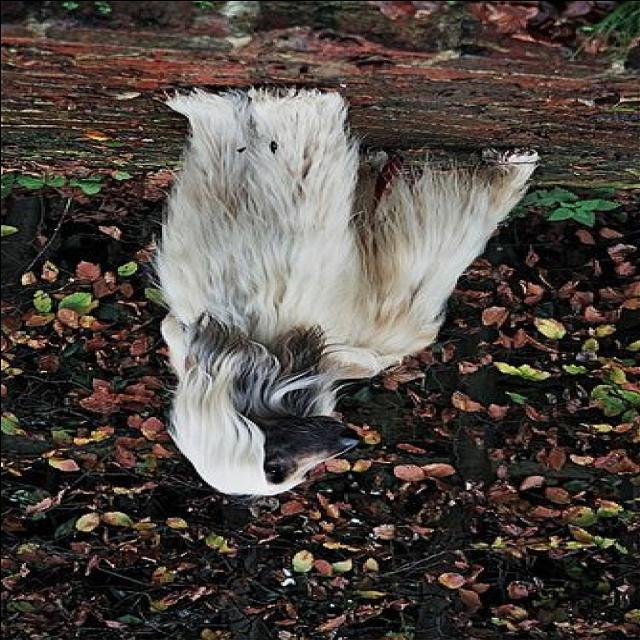afghan_hound: (155, 73, 546, 502)
